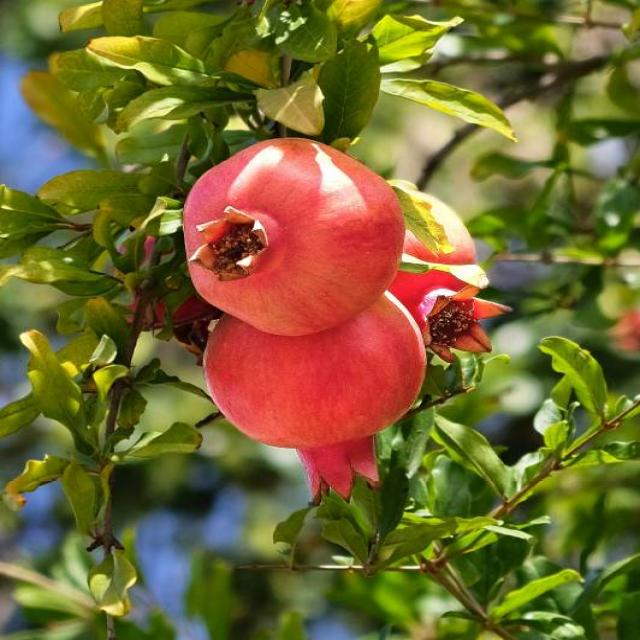Ripe: (185, 298, 431, 507), (166, 131, 411, 338)
